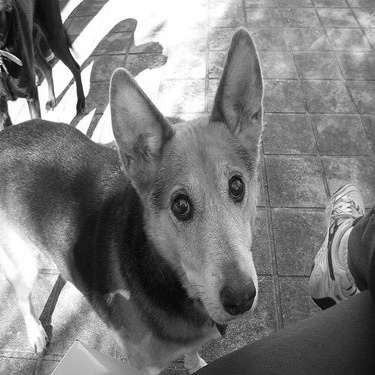dog: (2, 20, 271, 370)
